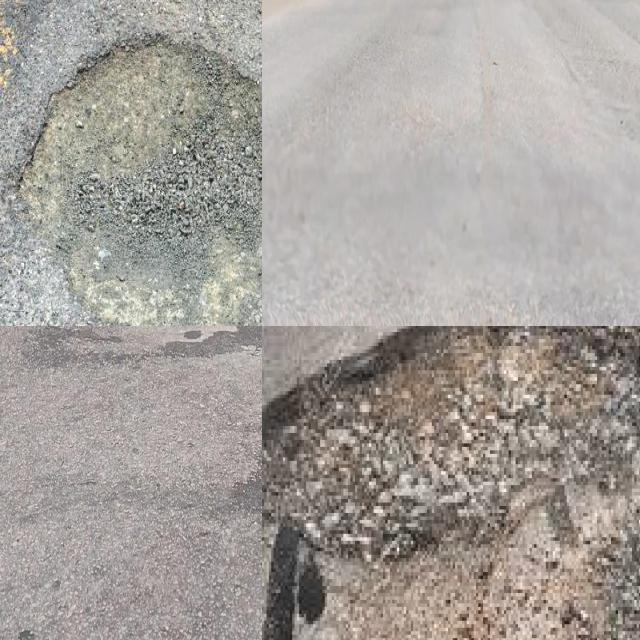Pothole: (262, 326, 640, 586), (19, 38, 262, 326), (64, 326, 241, 355)
